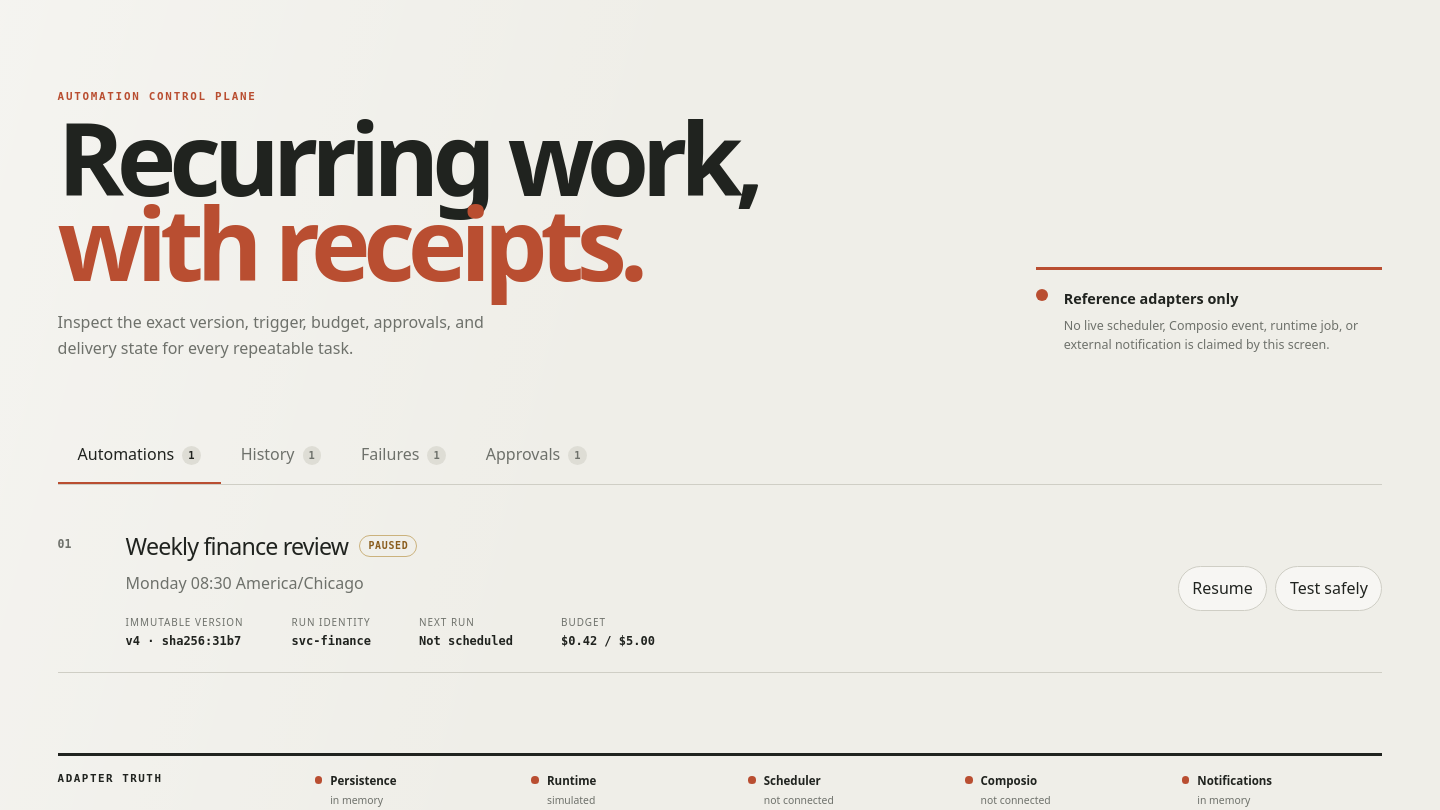
Test case: AutomationWorkspace › labels reference adapters and exposes failure and approval inboxes
Check: the text "Reference adapters only" is shown, box [1064, 289, 1238, 308]
Click the button "failures1" at (403,454), box [341, 426, 466, 484]
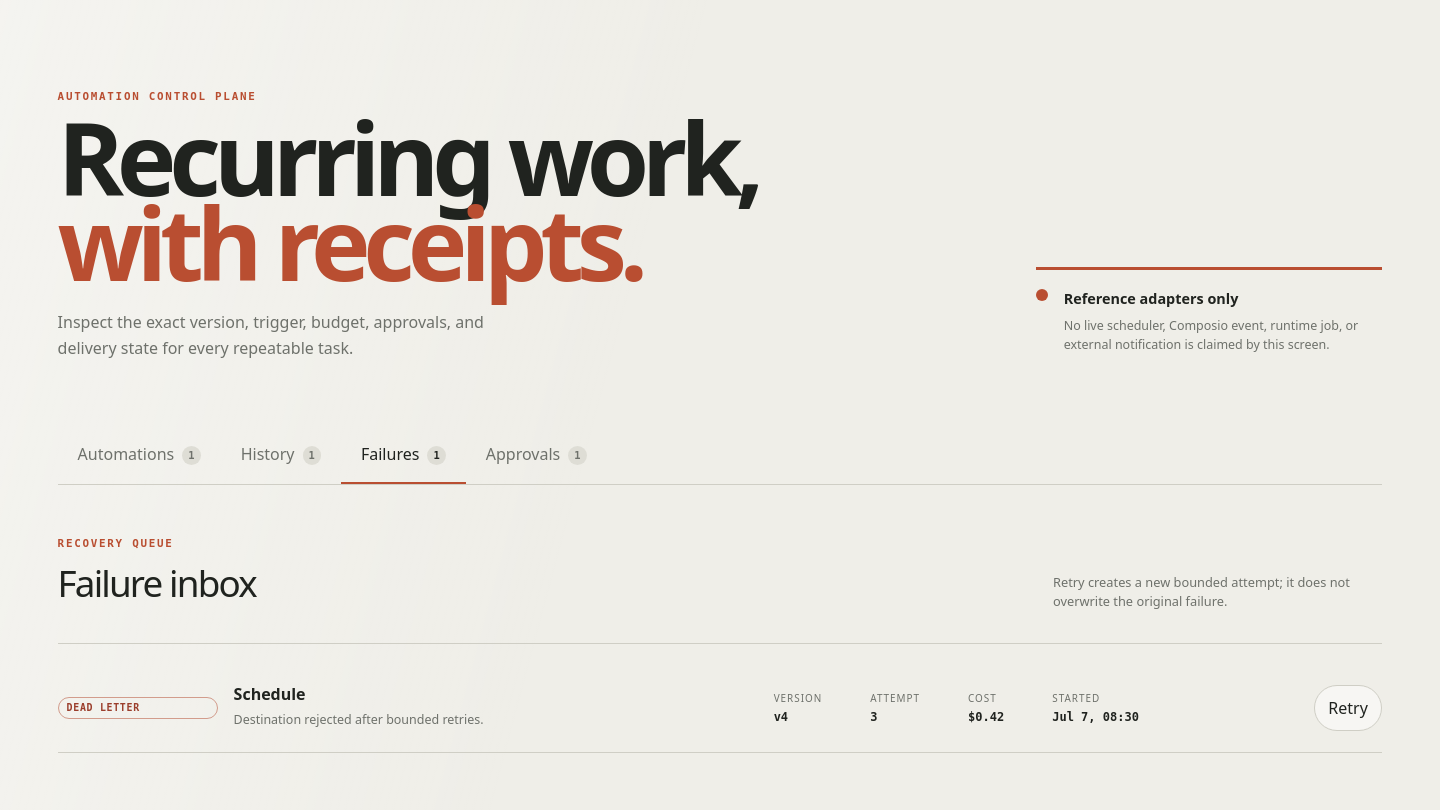
Check: the text "Destination rejected after bounded retries." is shown, box [234, 710, 484, 728]
Click the button "approvals1" at (536,454), box [466, 426, 607, 484]
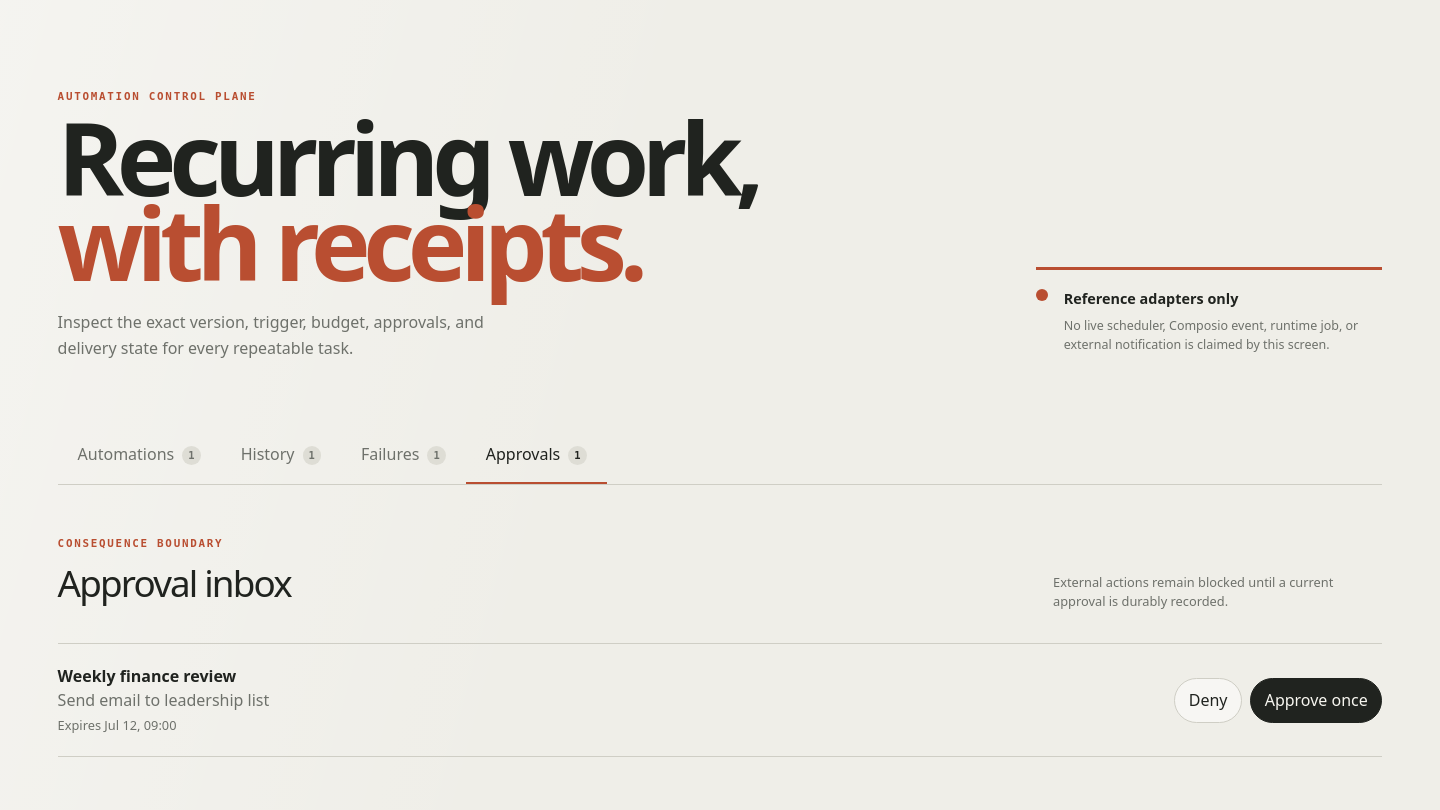
Check: the text "Send email to leadership list" is shown, box [58, 688, 269, 712]
Click the button "Approve once" at (1316,700), box [1250, 678, 1382, 723]
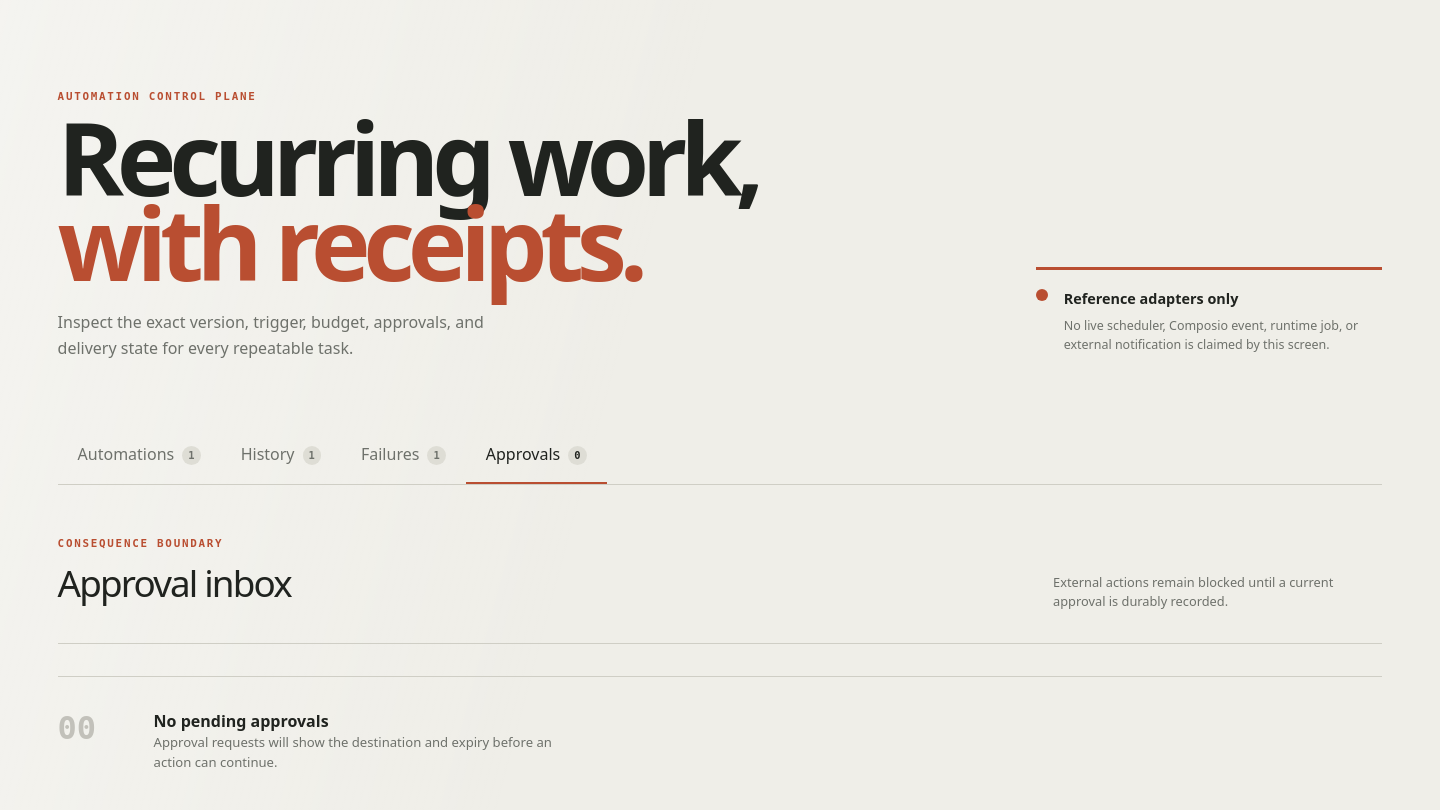
Check: the text "No pending approvals" is shown, box [154, 710, 329, 732]
